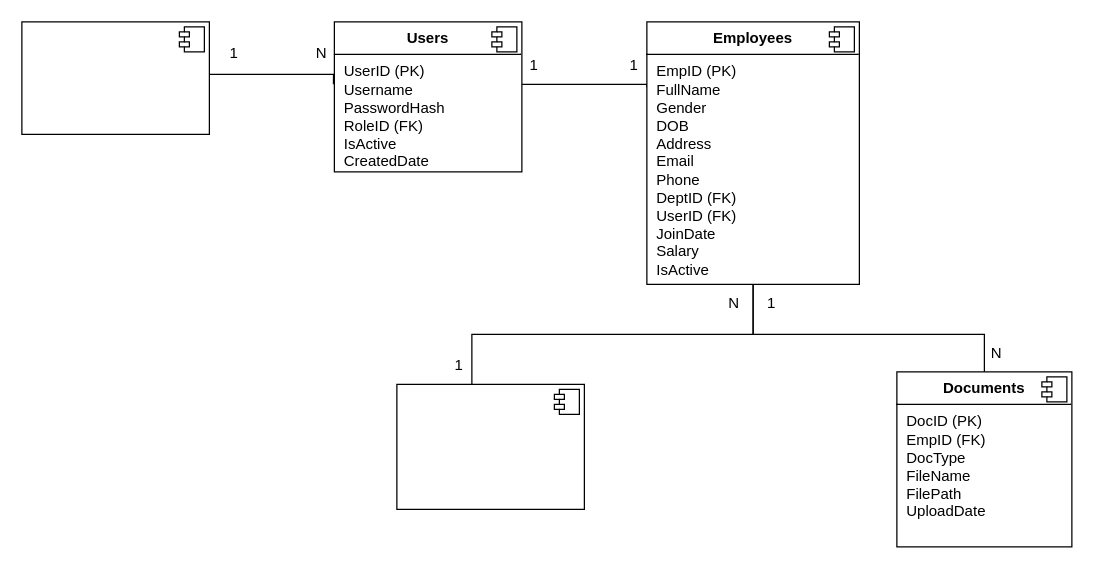
This 1094x569 diagram has some shape labels left out. Here are the shapes that lost their labels. From the top down, the centre of each, then its label:
the point at 115,77: Roles RoleID (PK) RoleName Description
the point at 490,446: Departments DeptID (PK) DeptName Location CreatedOn
